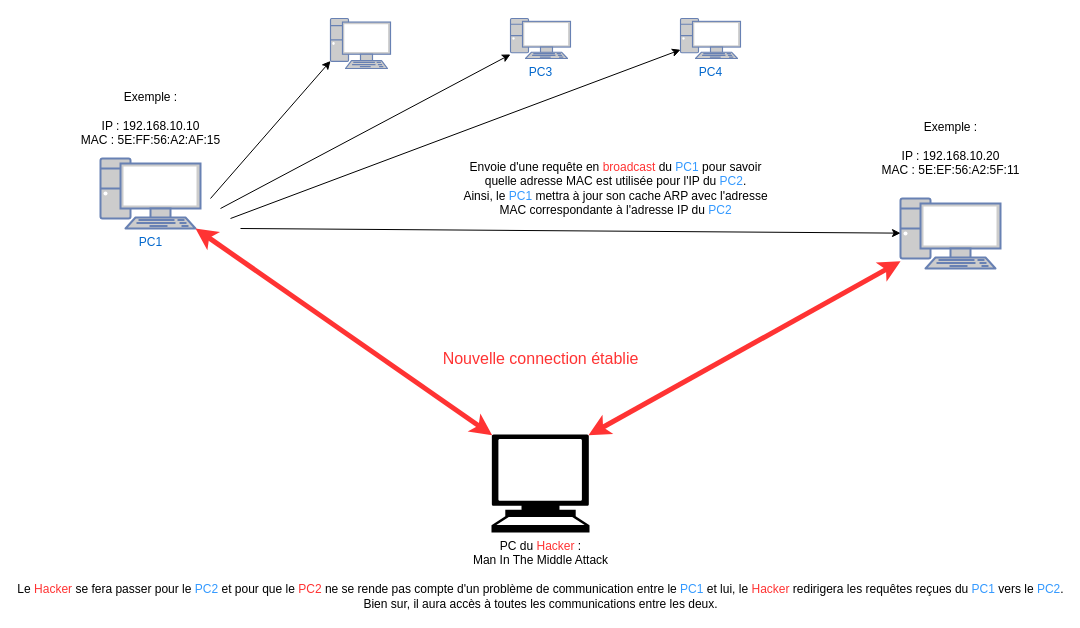
Some shapes in this 1080 by 628 pixel diagram are drawn without their labels. Here are the shapes that lost their labels. From the top down, the centre of each, then its label:
[360,43]: PC5
[950,233]: PC2
